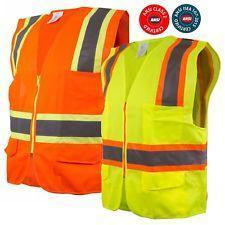vest: (5, 9, 131, 196), (100, 38, 221, 221)
